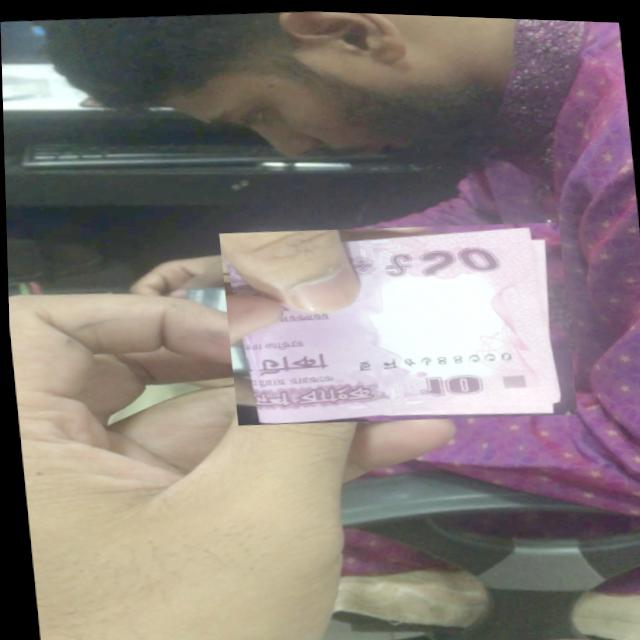Taka: (217, 208, 575, 433)
